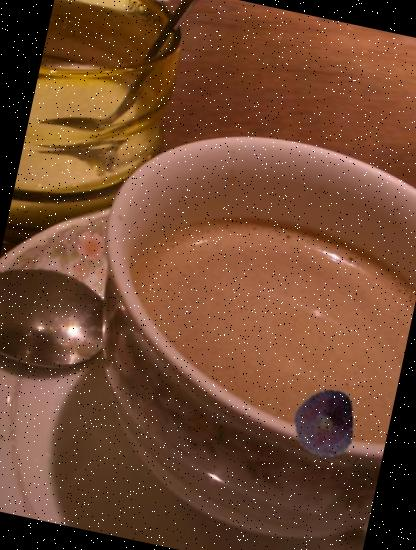Salak: (283, 384, 364, 465)
